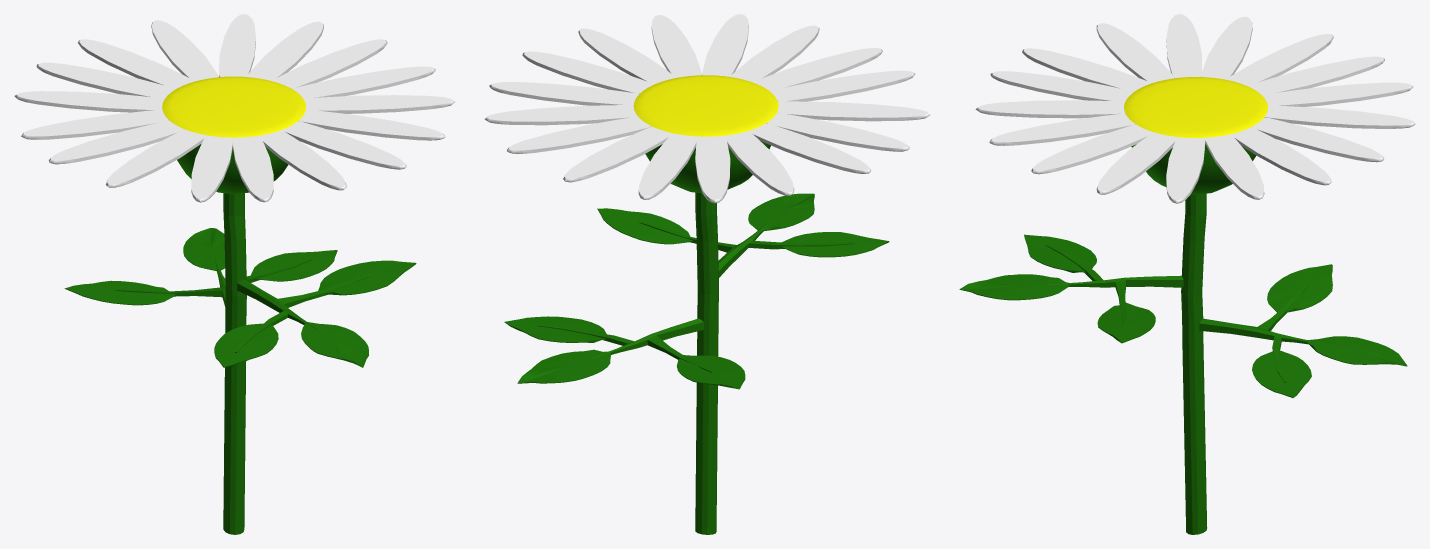
Rendered from flower2.fbx.
3 views of the same model, side by side, from view 1: azimuth 30°, elevation 25°; view 2: azimuth 150°, elevation 25°; view 3: azimuth 270°, elevation 25° (orthographic).
Visible parts, largest first — view 1: Capsule, Cylinder, paper2, paper11, paper3, paper13, paper12, paper1, paper4, paper10, paper14, paper5 (+14 smaller); view 2: Capsule, Cylinder, paper7, paper14, paper6, paper15, paper13, paper5, paper12, paper4, paper8, paper16 (+14 smaller); view 3: Capsule, Cylinder, paper8, paper1, paper9, paper, paper7, paper2, paper16, paper10, paper6, paper15 (+14 smaller).
Boxes of the visible parts, <box> form: Capsule: <box>114,144,312,534</box>; Cylinder: <box>162,76,306,137</box>; paper2: <box>298,110,445,140</box>; paper11: <box>14,91,164,112</box>; paper3: <box>304,95,455,113</box>; paper13: <box>48,120,184,164</box>; paper12: <box>21,109,169,139</box>; paper1: <box>282,121,406,169</box>; paper4: <box>292,66,435,98</box>; paper10: <box>36,62,175,98</box>; paper14: <box>106,129,206,187</box>; paper5: <box>272,39,387,88</box>; Capsule: <box>537,141,770,534</box>; Cylinder: <box>633,75,778,136</box>; paper7: <box>507,116,651,153</box>; paper14: <box>777,101,930,121</box>; paper6: <box>484,105,637,125</box>; paper15: <box>770,70,915,101</box>; paper13: <box>767,113,909,151</box>; paper5: <box>489,82,638,105</box>; paper12: <box>748,123,871,173</box>; paper4: <box>522,51,653,93</box>; paper8: <box>563,126,673,182</box>; paper16: <box>754,47,882,90</box>; Capsule: <box>1131,144,1331,534</box>; Cylinder: <box>1124,77,1267,138</box>; paper8: <box>1265,105,1415,128</box>; paper1: <box>989,113,1135,145</box>; paper9: <box>1262,82,1413,106</box>; paper: <box>975,100,1125,118</box>; paper7: <box>1252,117,1384,162</box>; paper2: <box>1031,124,1154,174</box>; paper16: <box>990,71,1133,102</box>; paper10: <box>1248,56,1384,95</box>; paper6: <box>1231,127,1331,185</box>; paper15: <box>1022,48,1151,91</box>.
Bounding box in the file's own units: 3.25 × 3.43 × 3.33.
